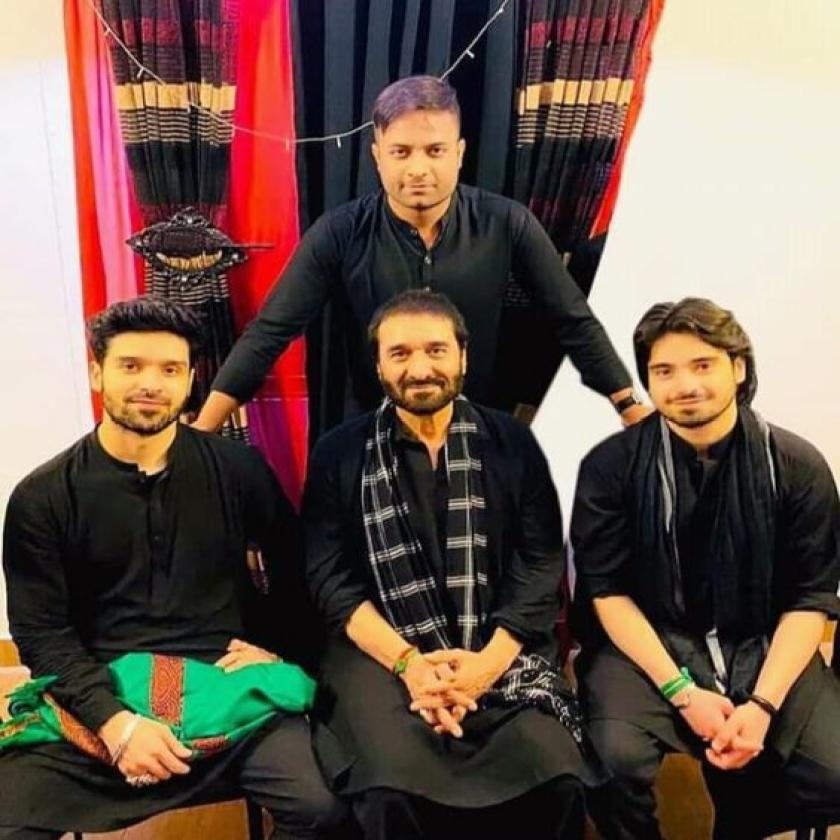Sin_casco: (85, 294, 207, 464), (635, 293, 756, 456), (367, 75, 472, 228), (363, 284, 476, 426)
